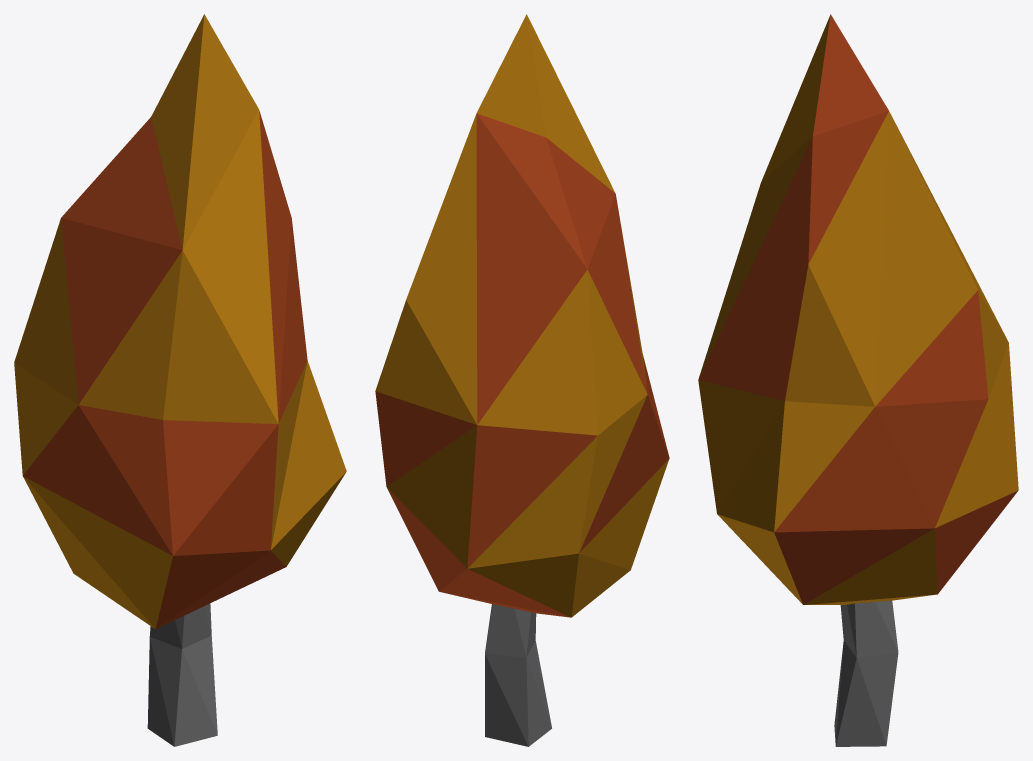
The model's file is Tree1_M2_4_medium.fbx.
3 views of the same model, side by side, from view 1: azimuth 30°, elevation 25°; view 2: azimuth 150°, elevation 25°; view 3: azimuth 270°, elevation 25° (orthographic). The views are drawn at different scales.
Parts seen in each view (by area): view 1: Tree1_M2_4_medium; view 2: Tree1_M2_4_medium; view 3: Tree1_M2_4_medium.
Part boxes in pixels (x1,y1,x2,y2): Tree1_M2_4_medium: [14, 14, 346, 746]; Tree1_M2_4_medium: [375, 14, 669, 746]; Tree1_M2_4_medium: [698, 14, 1018, 746].
Size of the model in its own units: 80 by 226 by 90.59.
